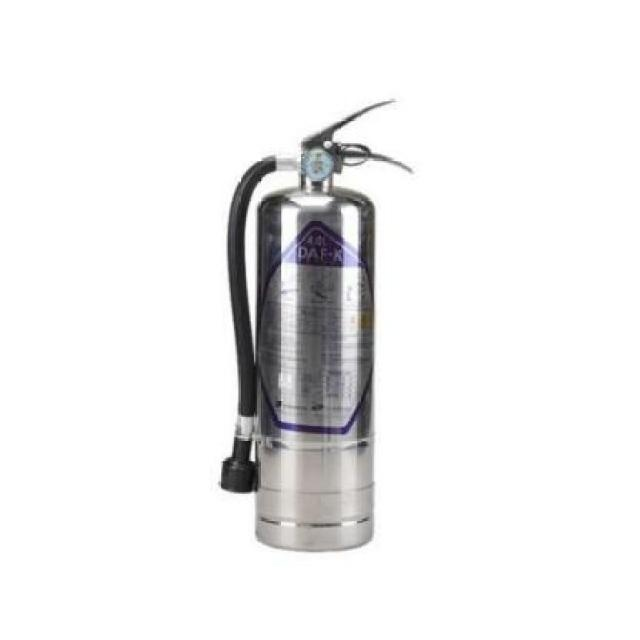fire extinguisher: (218, 97, 413, 551)
